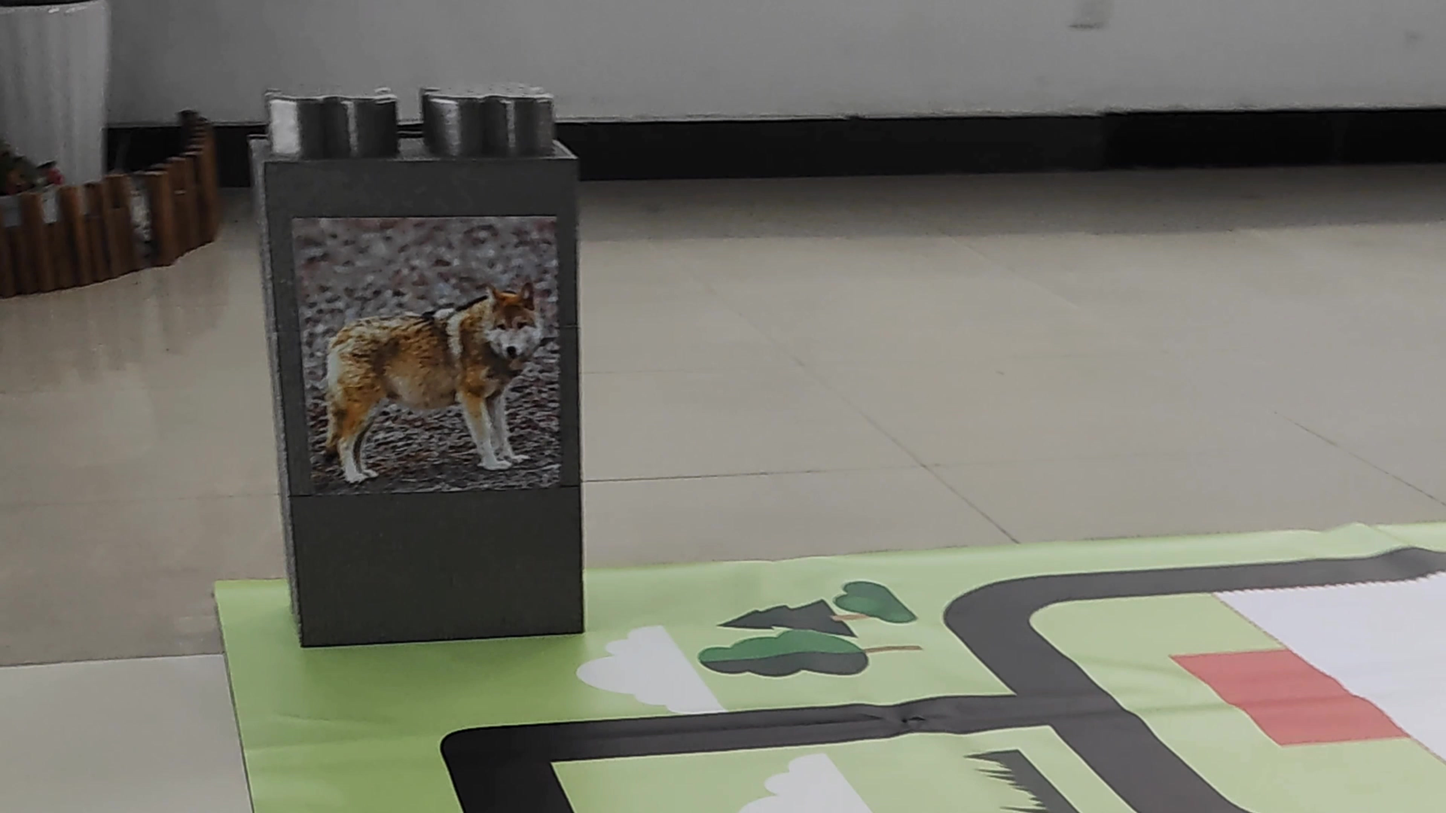wolf: (303, 223, 567, 483)
